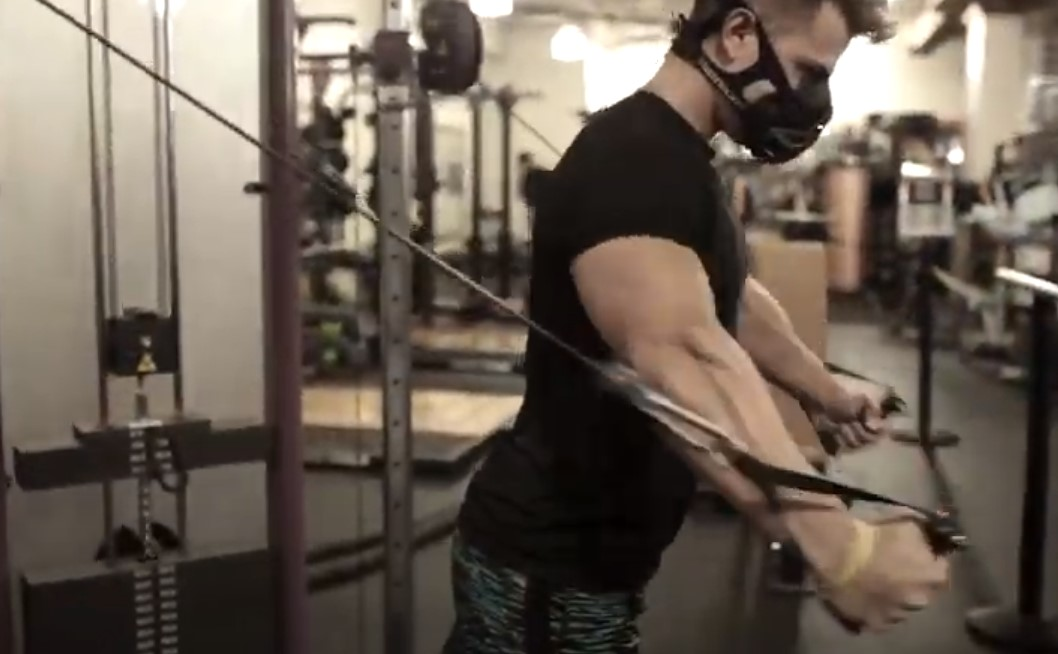face_with_mask: (662, 0, 855, 168)
